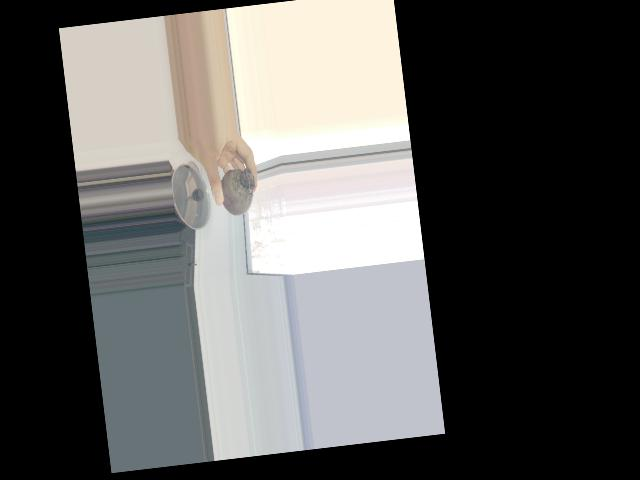beet: (216, 154, 258, 217)
